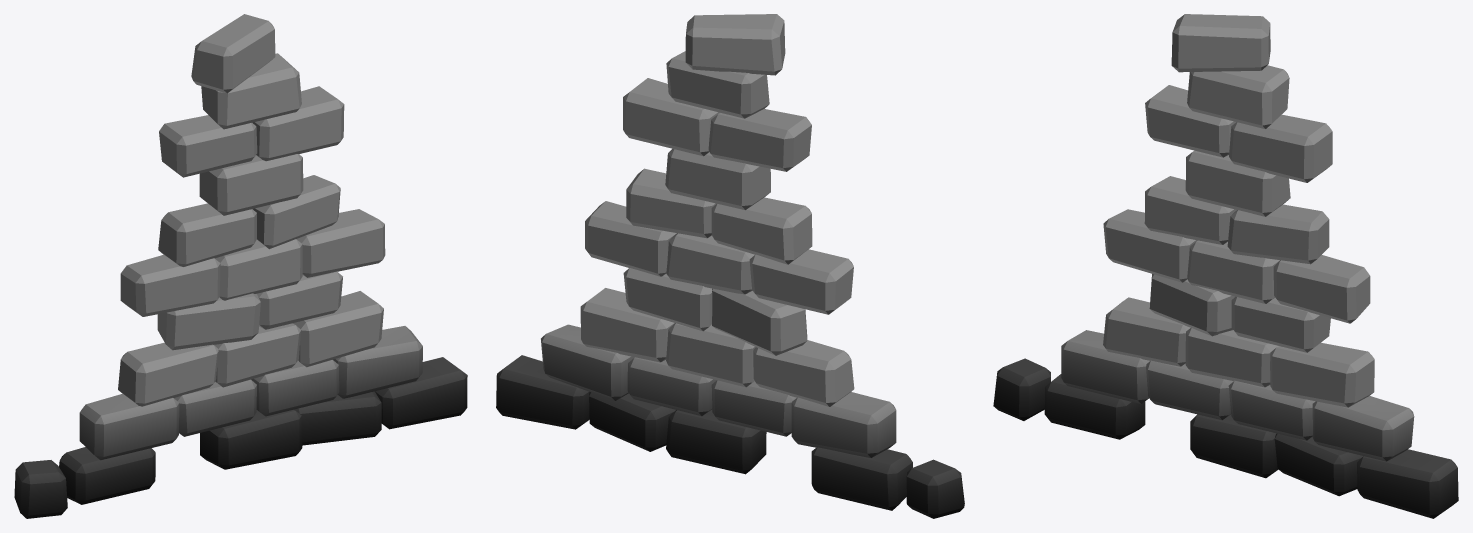
Rendered from BrickWall2x2_01_Solo_Broken.fbx.
3 views of the same model, side by side, from view 1: azimuth 30°, elevation 25°; view 2: azimuth 150°, elevation 25°; view 3: azimuth 330°, elevation 25° (orthographic). The views are drawn at different scales.
Visible parts, largest first — view 1: BrickWall2x2_01_Solo_Broken; view 2: BrickWall2x2_01_Solo_Broken; view 3: BrickWall2x2_01_Solo_Broken.
Boxes of the visible parts, x1,y1,x2,y2 form: BrickWall2x2_01_Solo_Broken: (14,14,467,518); BrickWall2x2_01_Solo_Broken: (496,14,964,518); BrickWall2x2_01_Solo_Broken: (993,14,1458,518).
Bounding box in the file's own units: 215 × 201 × 33.34.
